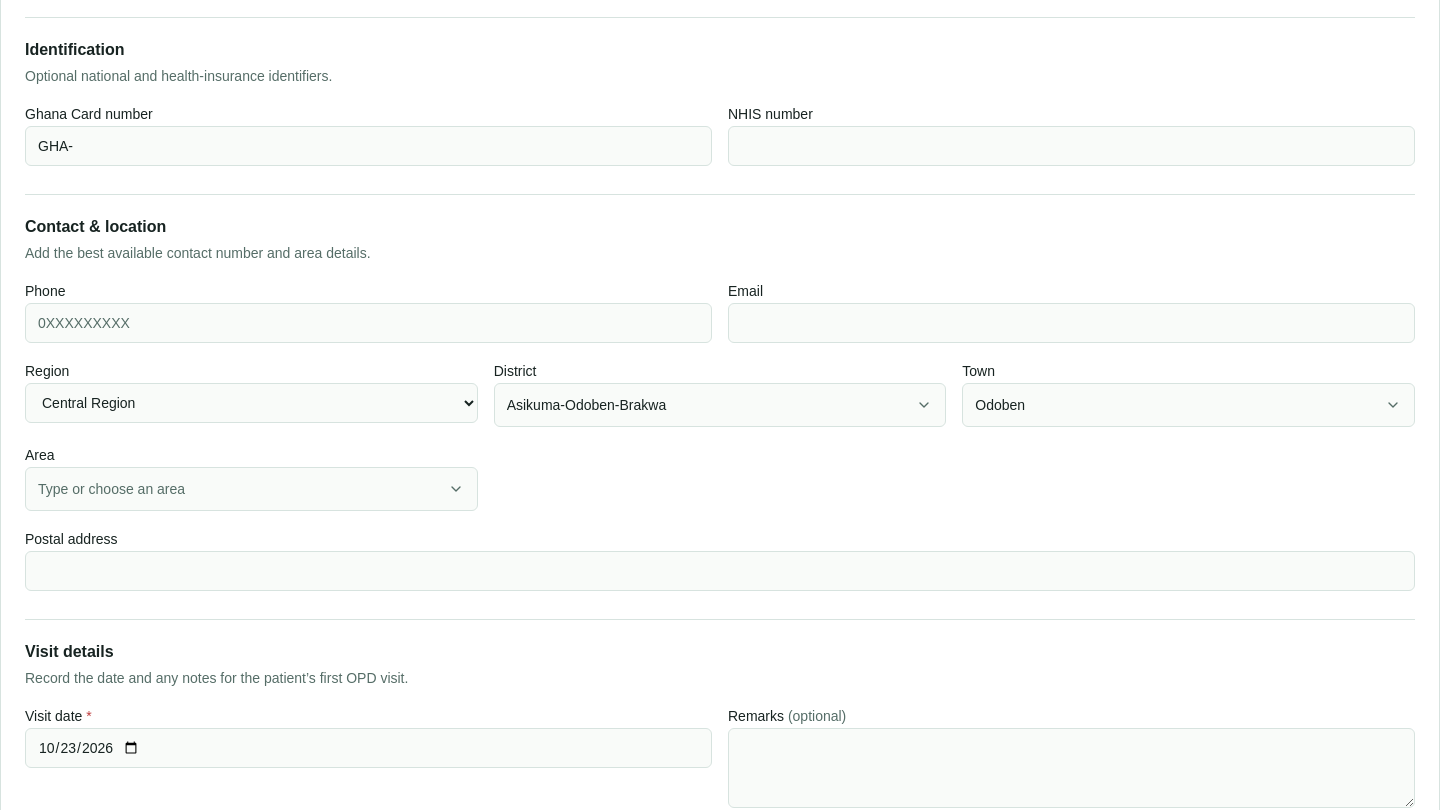
Test: PatientForm defaults and guidance › opens and selects location suggestions with the keyboard
This screenshot has width=1440, height=810.
(page scrolled)
Step 1. Replace the text in the dropdown labelled "District" with "Agona" → (720, 405), box top-left (494, 383), bottom-right (946, 427)
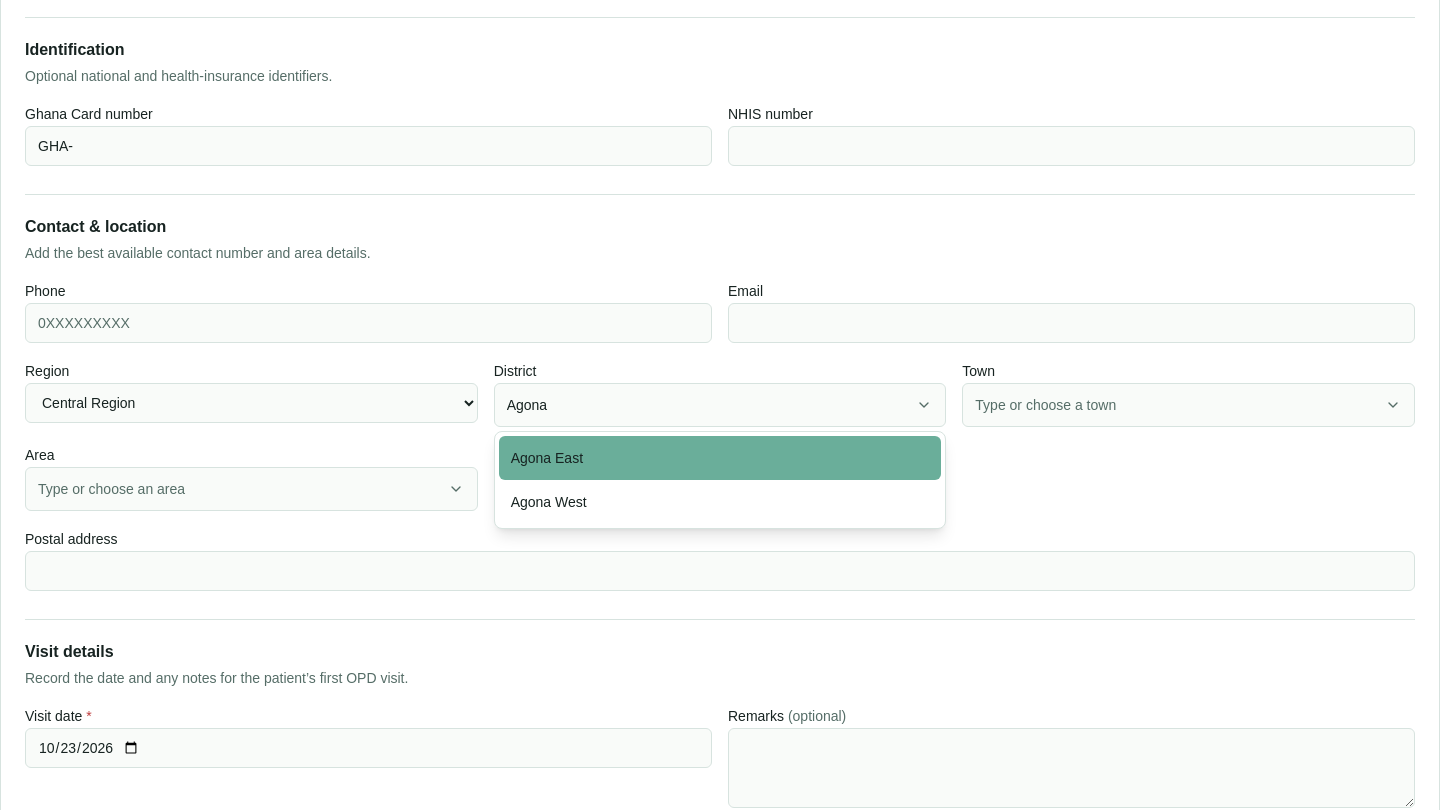
Step 2. Press ArrowDown in the dropdown labelled "District", box top-left (494, 383), bottom-right (946, 427)
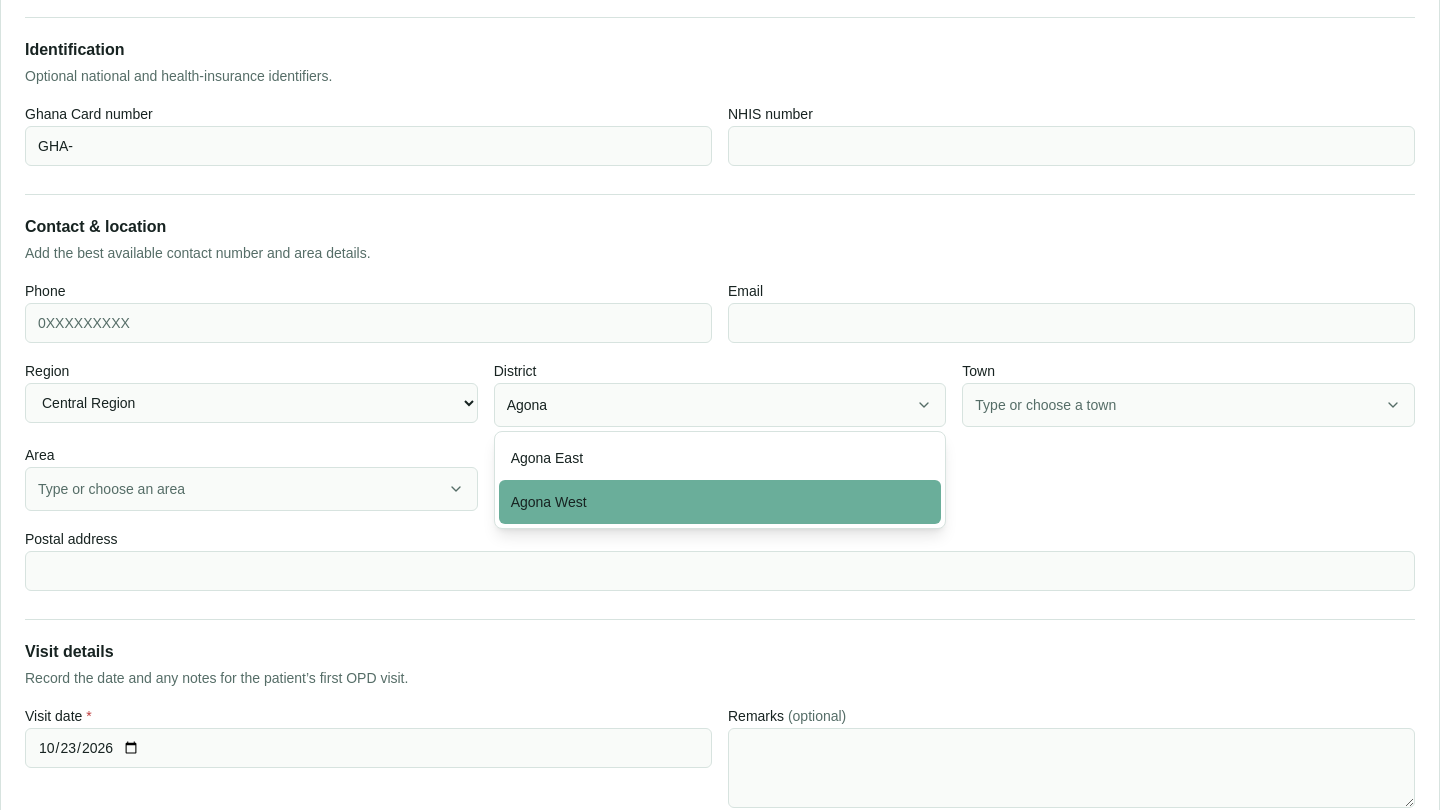
Step 3. Press Enter in the dropdown labelled "District", box top-left (494, 383), bottom-right (946, 427)
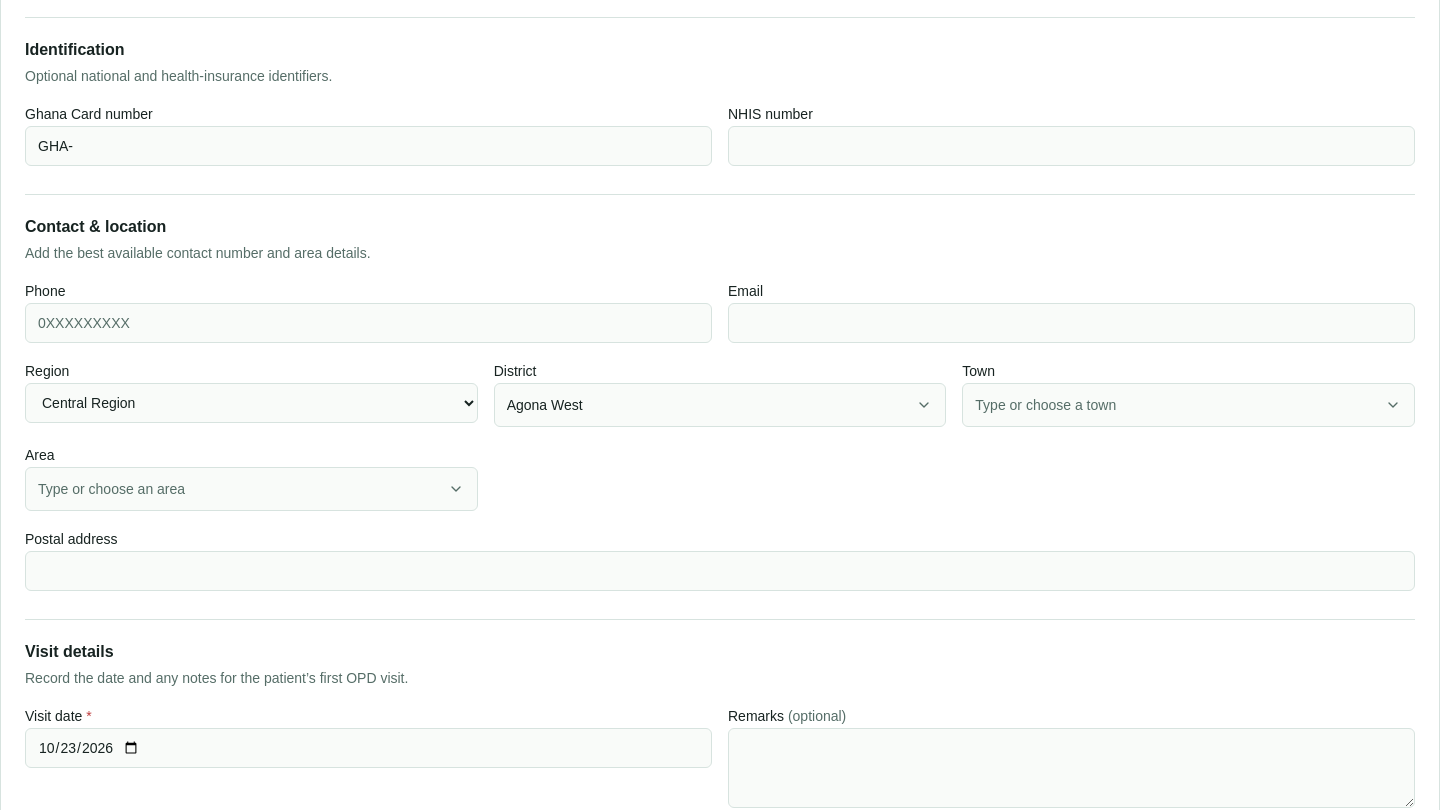
Result: the dropdown labelled "District" holds "Agona West" at top-left (494, 383), bottom-right (946, 427)
